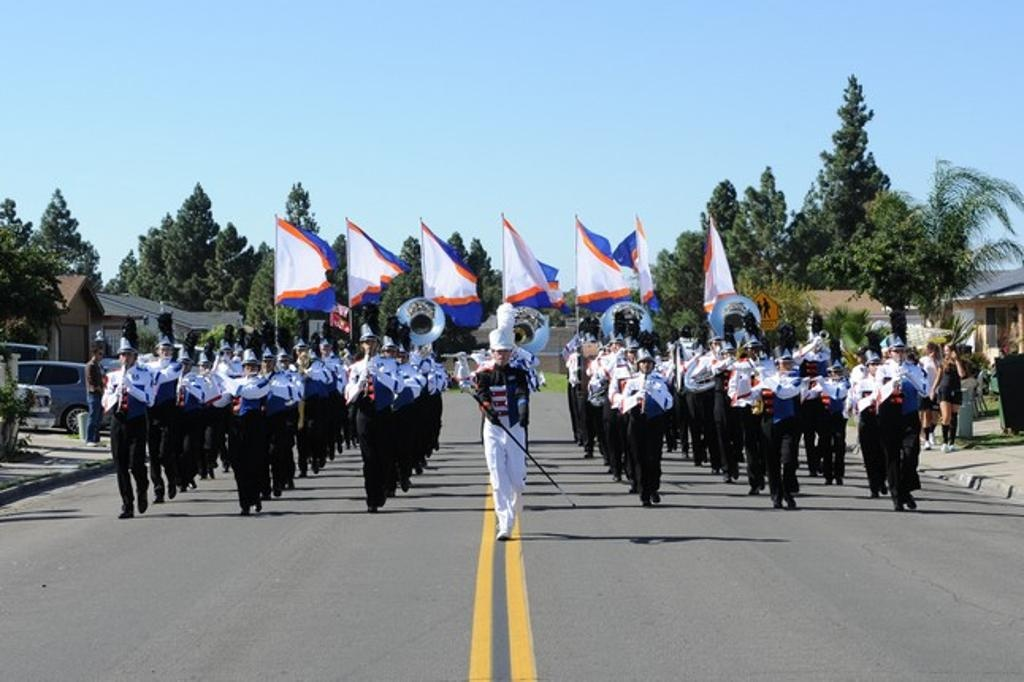human_face: (492, 347, 510, 363), (118, 350, 132, 366), (362, 340, 376, 354), (639, 358, 653, 372), (158, 345, 170, 359), (178, 358, 190, 372), (868, 360, 880, 374), (890, 348, 904, 360), (244, 362, 256, 375), (219, 350, 231, 362), (383, 349, 395, 361), (627, 349, 639, 361), (779, 360, 791, 372), (94, 348, 104, 360), (200, 362, 210, 374), (262, 358, 272, 370), (611, 343, 621, 353), (712, 340, 722, 350), (944, 346, 952, 358), (278, 358, 286, 368), (320, 346, 328, 354), (928, 350, 936, 358)
